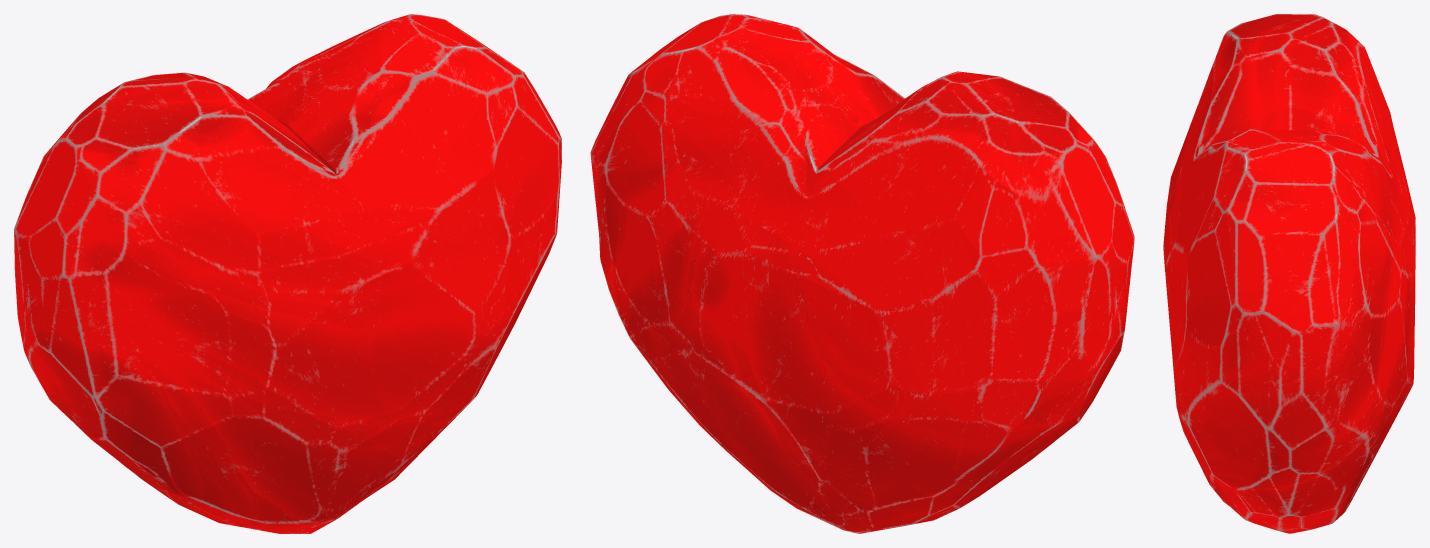
The model's file is crystal_heart.glb.
The picture shows the model from 3 angles, left to right: view 1: azimuth 30°, elevation 25°; view 2: azimuth 150°, elevation 25°; view 3: azimuth 270°, elevation 25°; orthographic projection. The views are drawn at different scales.
Parts seen in each view (by area): view 1: Crystal_Heart; view 2: Crystal_Heart; view 3: Crystal_Heart.
Part boxes in pixels (x1=…): Crystal_Heart: x1=14, y1=14, x2=561, y2=533; Crystal_Heart: x1=590, y1=14, x2=1134, y2=533; Crystal_Heart: x1=1163, y1=14, x2=1415, y2=533.
Size of the model in its own units: 1.16 by 0.999 by 0.5179.
1 material, 1 textured.
